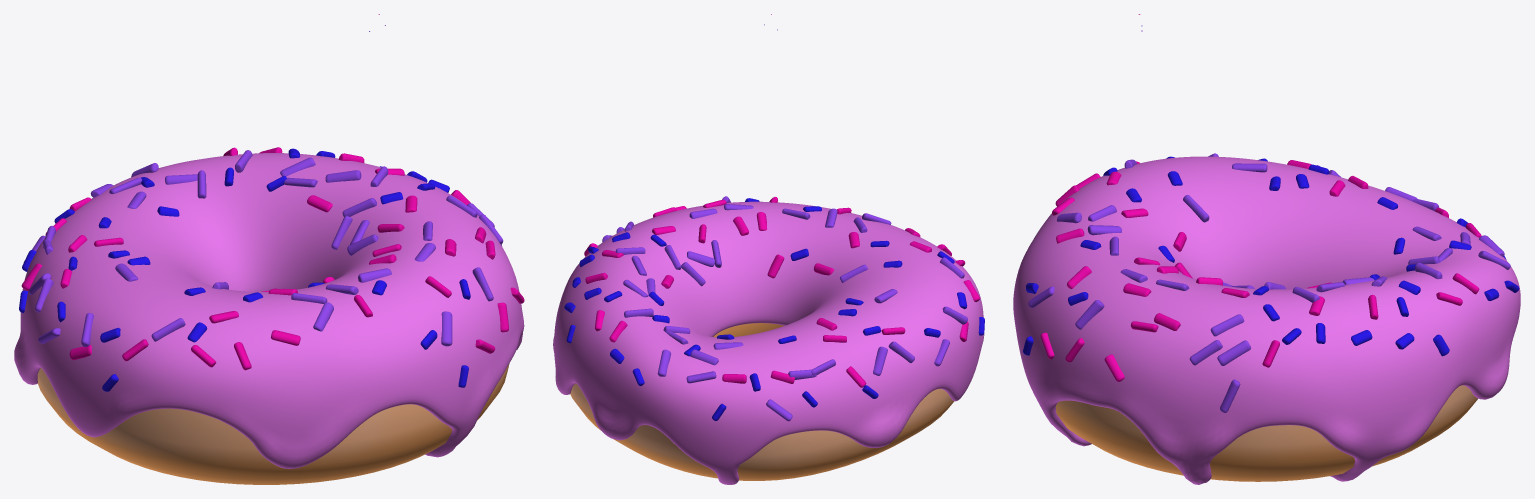
File: test_donut4.glb
3 renders of one model, left to right at view 1: azimuth 30°, elevation 25°; view 2: azimuth 150°, elevation 25°; view 3: azimuth 270°, elevation 25°, orthographic. The views are drawn at different scales.
Visible parts, largest first — view 1: icing, Donut; view 2: icing, Donut; view 3: icing, Donut.
Part boxes in pixels (x1=…): icing: x1=14, y1=153, x2=524, y2=468; Donut: x1=37, y1=364, x2=509, y2=484; icing: x1=553, y1=201, x2=984, y2=484; Donut: x1=570, y1=323, x2=954, y2=480; icing: x1=1013, y1=156, x2=1520, y2=484; Donut: x1=1055, y1=385, x2=1477, y2=481.
Size of the model in its own units: 1.51 by 1.41 by 1.53.
5 materials, 1 textured.
